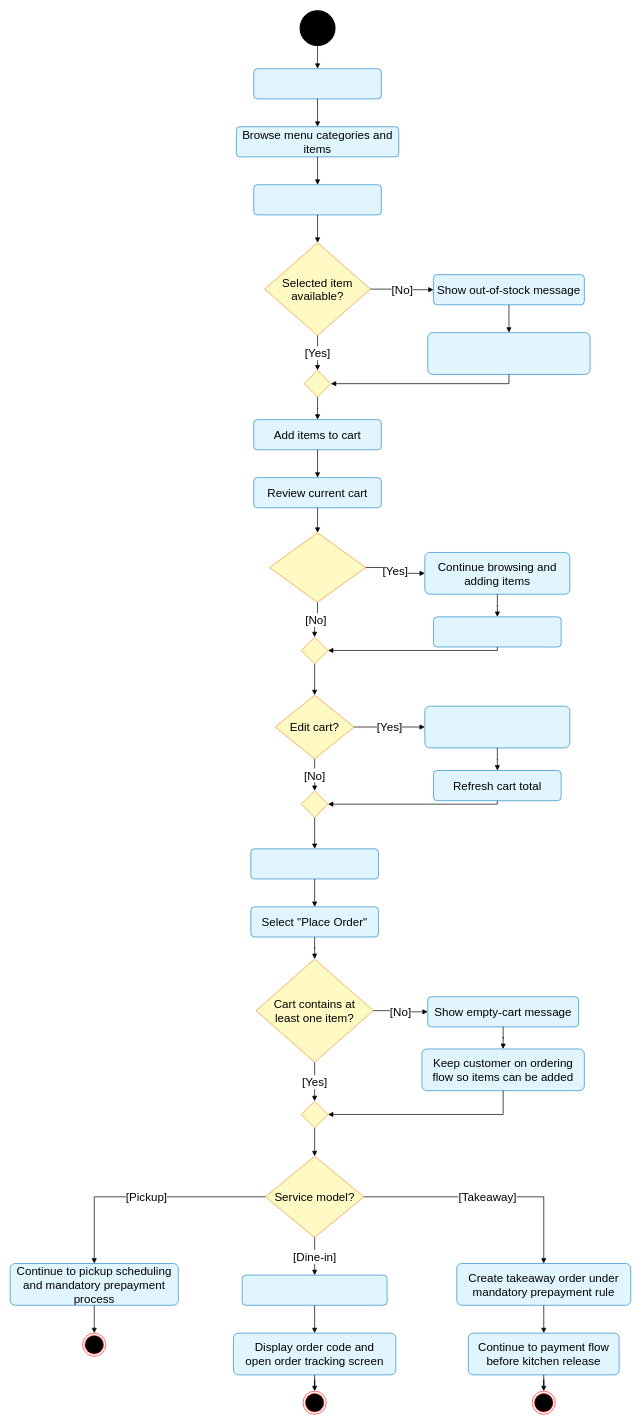
Some shapes in this 641 by 1424 pixel diagram are drawn without their labels. The centre of each missing label's shape, as x and y in pixels:
Add more items?: (x=317, y=567)
Create dine-in order: (x=314, y=1290)
Keep customer on menu and item-selection flow: (x=508, y=353)
Open online ordering page: (x=317, y=83)
Review updated cart: (x=497, y=631)
Select item details: (x=317, y=199)
Select service model: (x=314, y=863)
Update quantities or remove items: (x=497, y=727)
